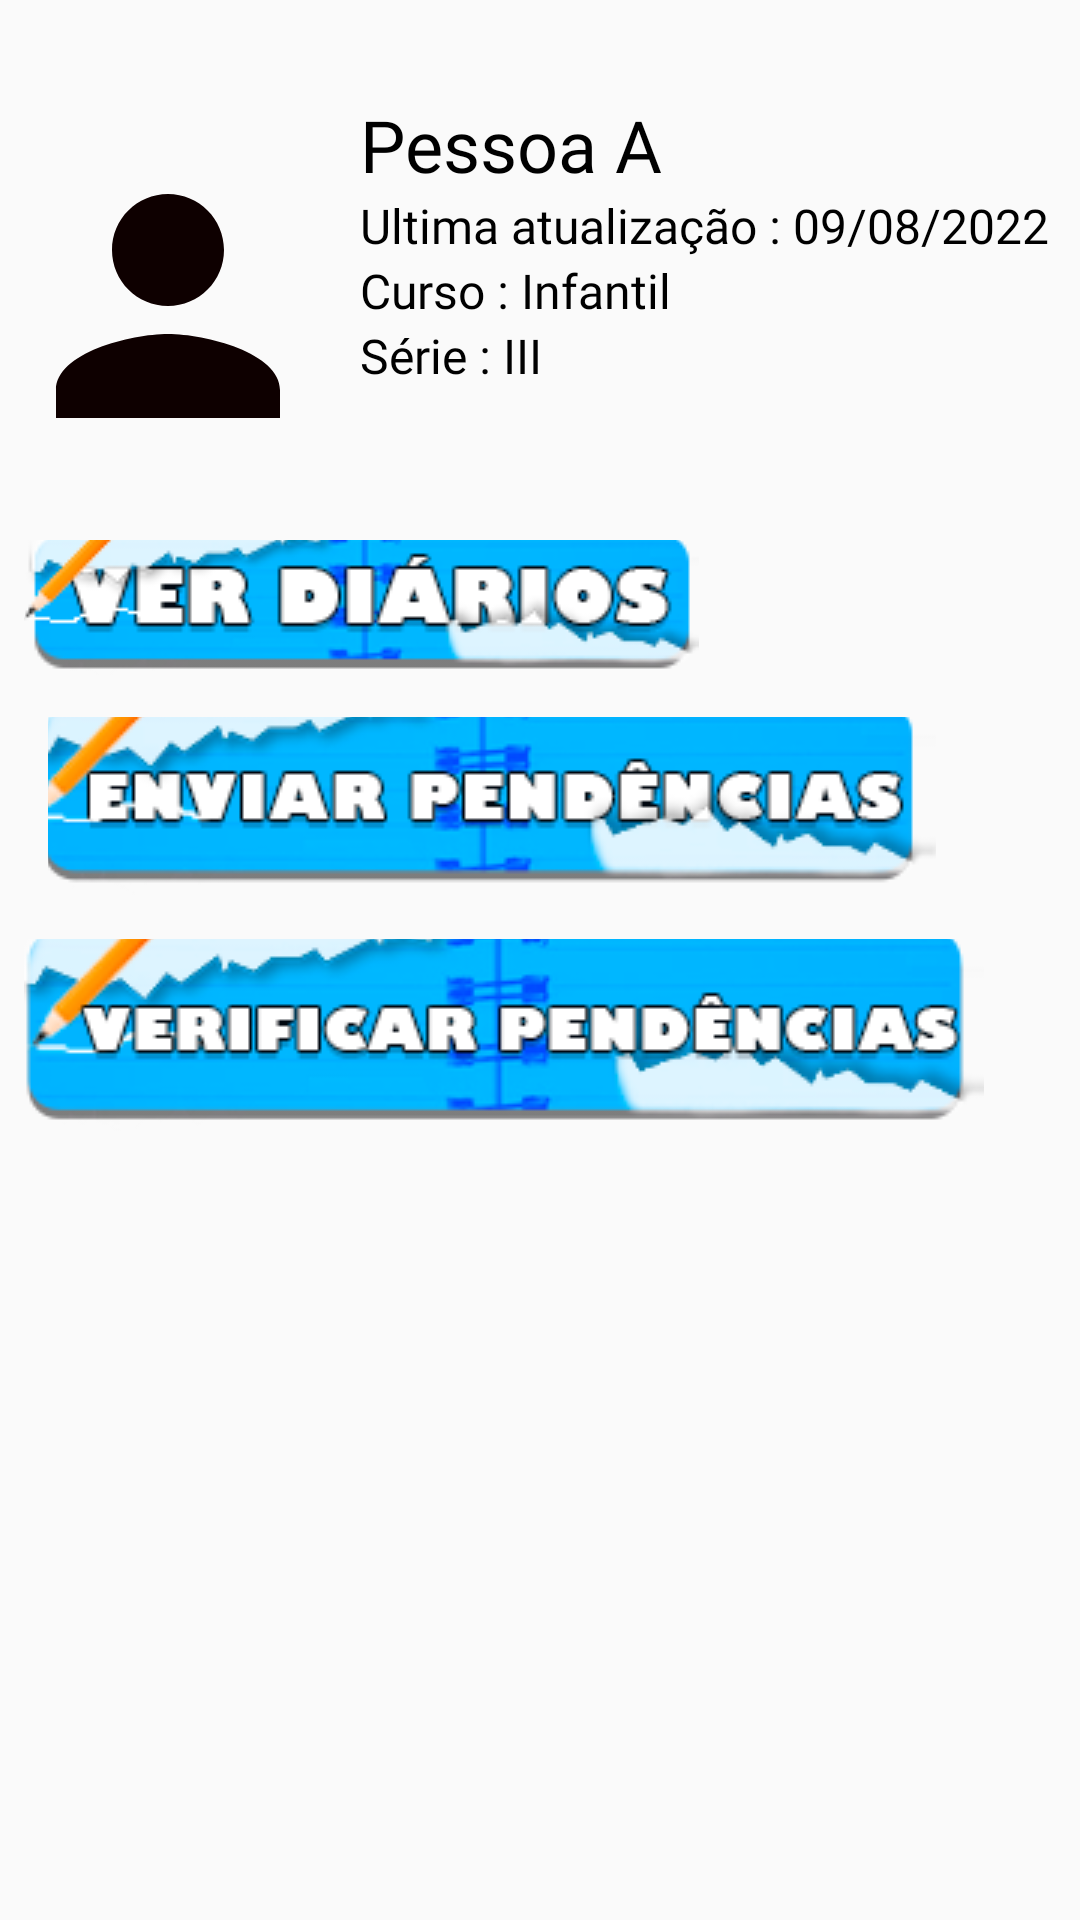

Icon click points for this 1080 × 1920 phone screenshot, format (x,y):
person: (168,306)
